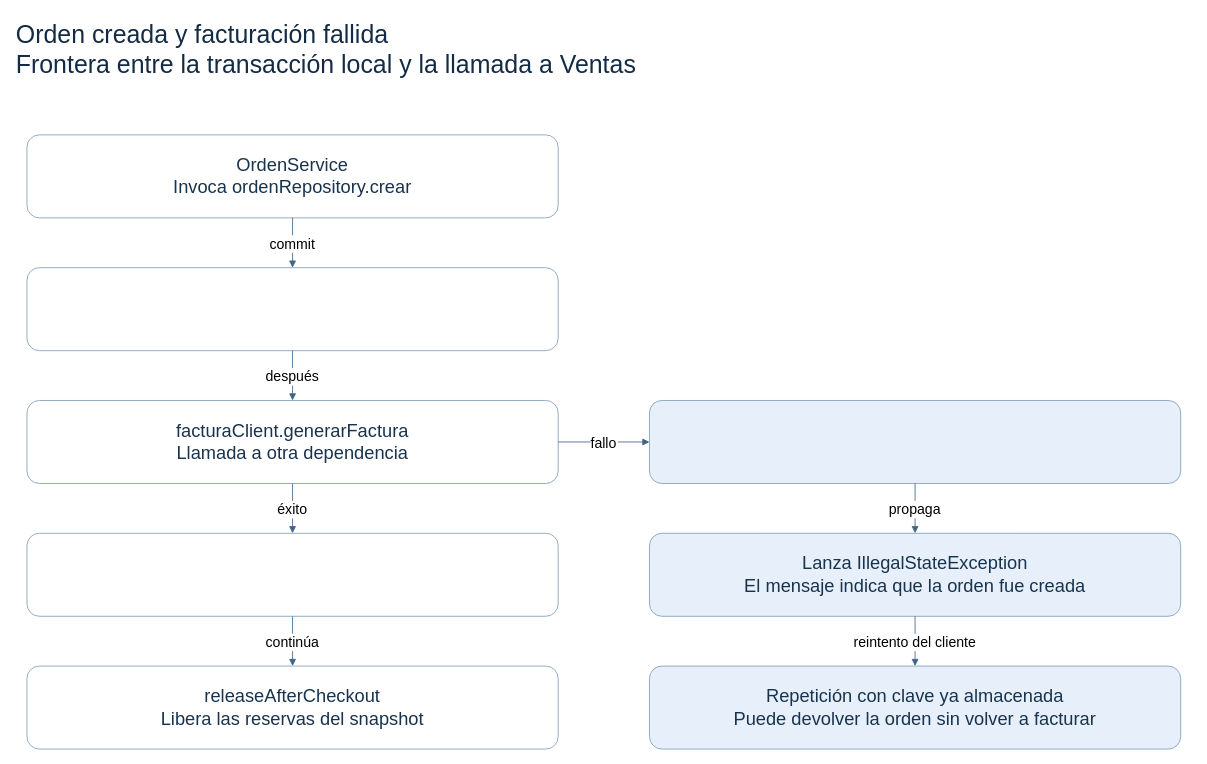
Image size: 1207x764. Some labels were removed from this diagram. The centre of each missing label's shape, as x and y in pixels:
Excepción durante facturación Registra checkout fallido: facturacion: [915,441]
Facturación sin excepción Registra checkout completado: [292,574]
Transacción local confirmada La orden ya existe antes de llamar a Ventas: [292,309]
